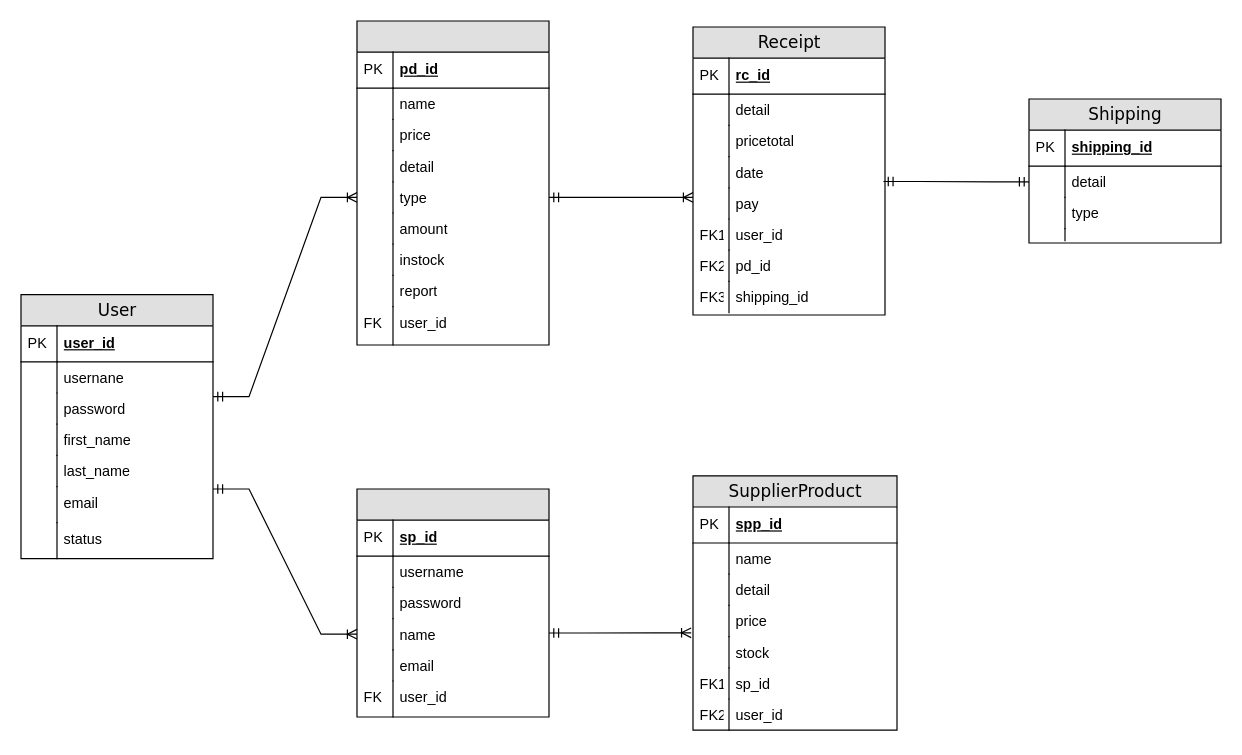
Some shapes in this 1242 by 755 pixel diagram are drawn without their labels. The box of each missing label's shape, as (x1, y1, x2, y2) in pixels:
SaleProduct: (356, 20, 549, 345)
Supplier: (356, 488, 549, 717)
